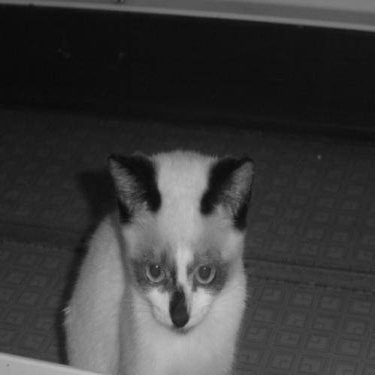cat: (63, 142, 249, 363)
